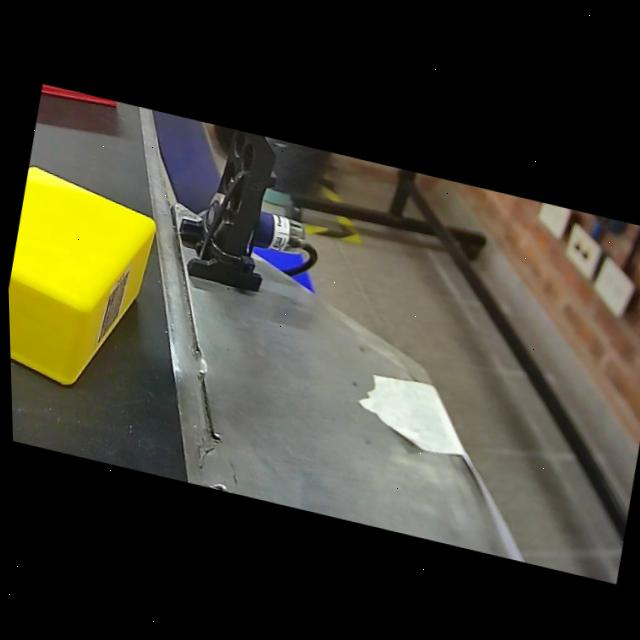redBox: (40, 84, 129, 118)
yellowBox: (4, 158, 167, 410)
